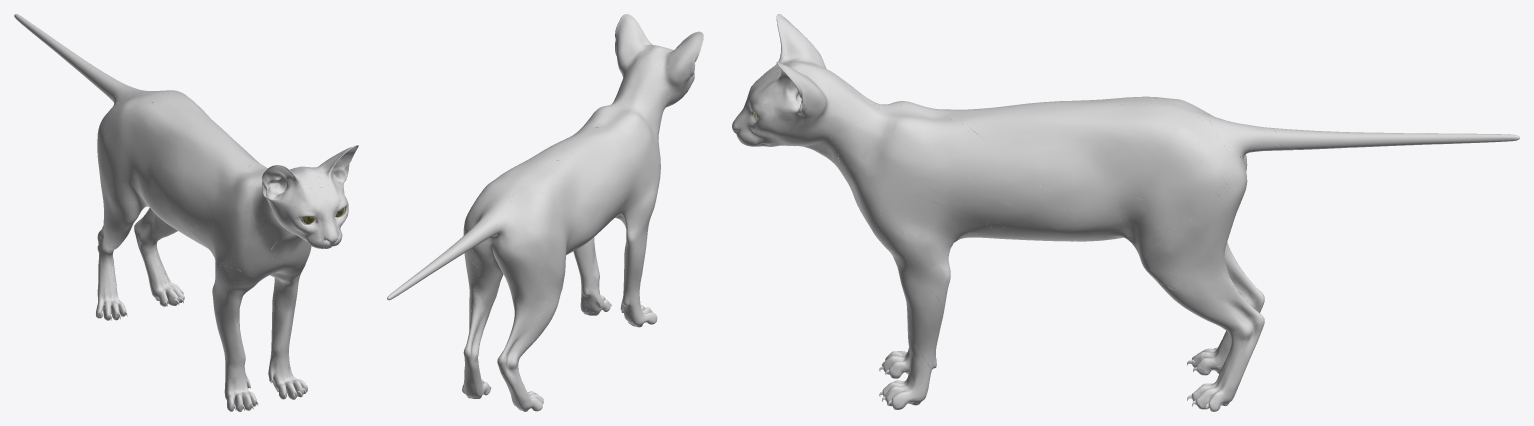
The model's file is cat.glb.
The picture shows the model from 3 angles, left to right: view 1: azimuth 30°, elevation 25°; view 2: azimuth 150°, elevation 25°; view 3: azimuth 270°, elevation 25°; orthographic projection. The views are drawn at different scales.
Parts seen in each view (by area): view 1: Body_0; view 2: Body_0; view 3: Body_0.
Boxes of the visible parts, x1=… form: Body_0: x1=14, y1=14, x2=358, y2=411; Body_0: x1=387, y1=14, x2=703, y2=411; Body_0: x1=732, y1=14, x2=1519, y2=411.
Size of the model in its own units: 0.2006 by 0.5873 by 1.2.
7 materials, 2 textured.
